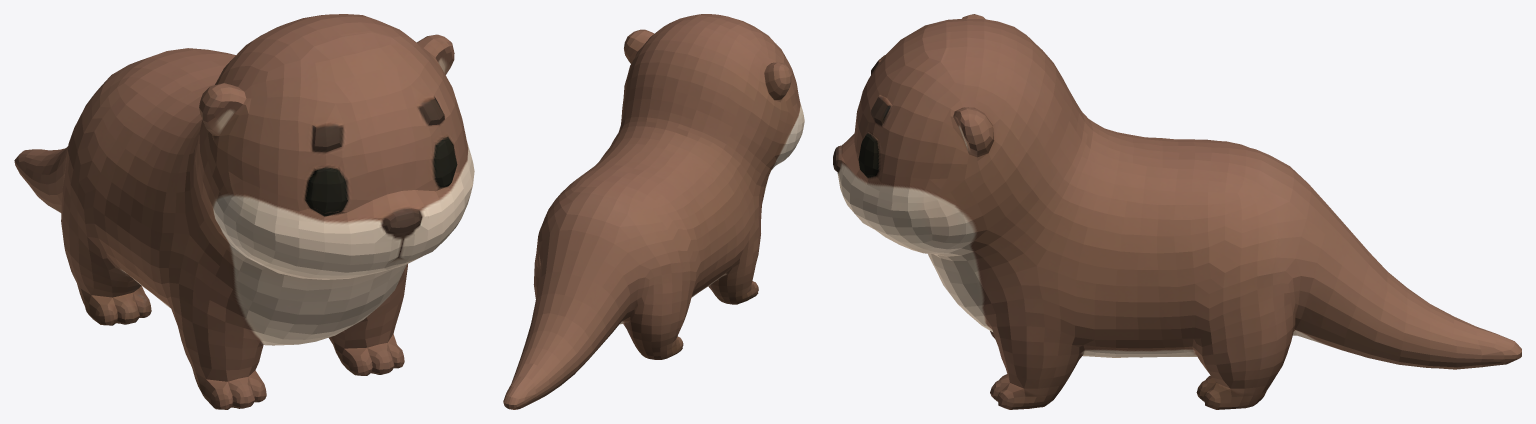
Rendered from otter.glb.
The picture shows the model from 3 angles, left to right: view 1: azimuth 30°, elevation 25°; view 2: azimuth 150°, elevation 25°; view 3: azimuth 270°, elevation 25°; orthographic projection. The views are drawn at different scales.
Parts seen in each view (by area): view 1: Otter; view 2: Otter; view 3: Otter.
Boxes of the visible parts, x1,y1,x2,y2 form: Otter: (14, 14, 474, 409); Otter: (503, 14, 804, 409); Otter: (833, 14, 1521, 409).
Bounding box in the file's own units: 0.7164 × 1.04 × 1.91.
1 material, 1 textured.
